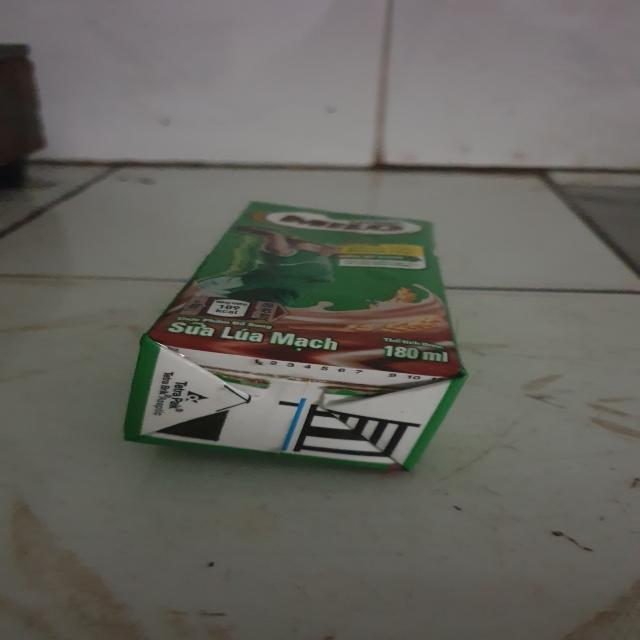Milo: (131, 201, 464, 466)
